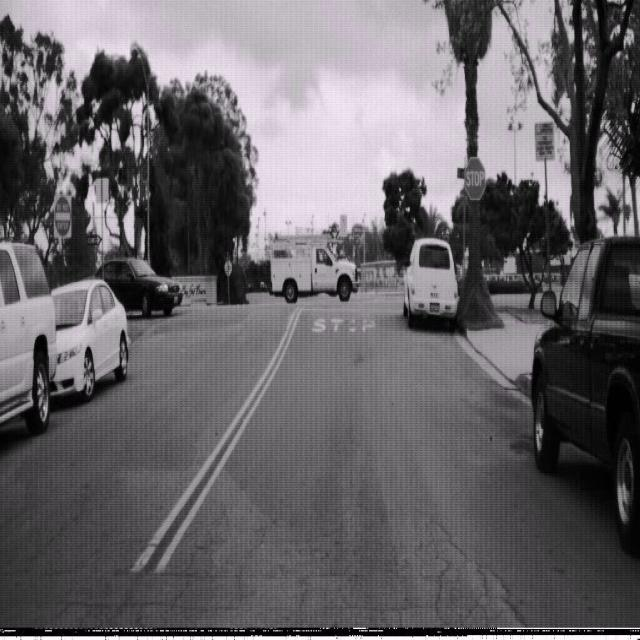stop_sign: (464, 156, 486, 201)
